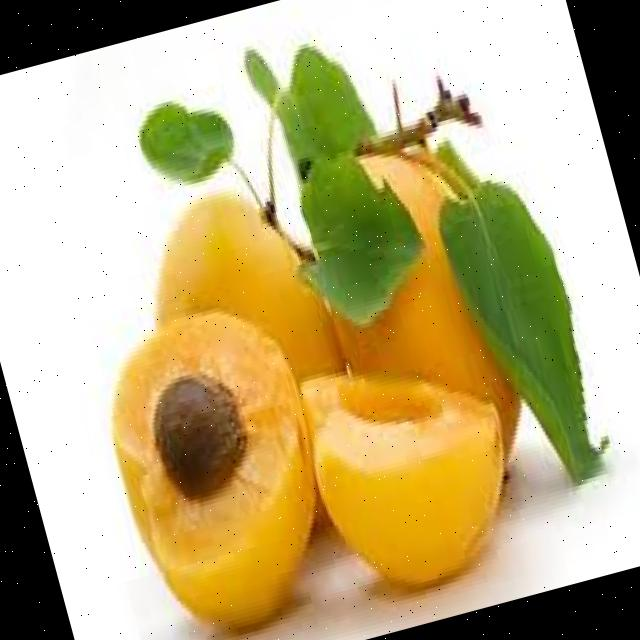Cekirdek: (151, 374, 245, 498)
Kayisi: (300, 374, 501, 581)
Yaprak: (438, 181, 595, 478)
